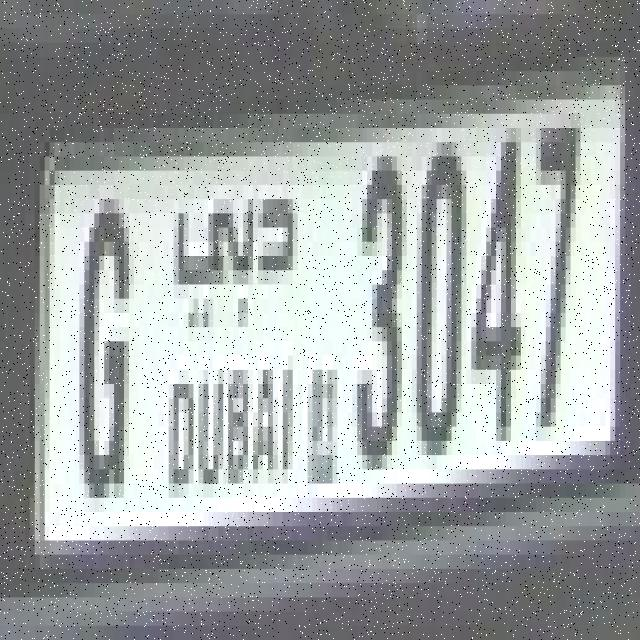licenseplate: (26, 31, 633, 606)
